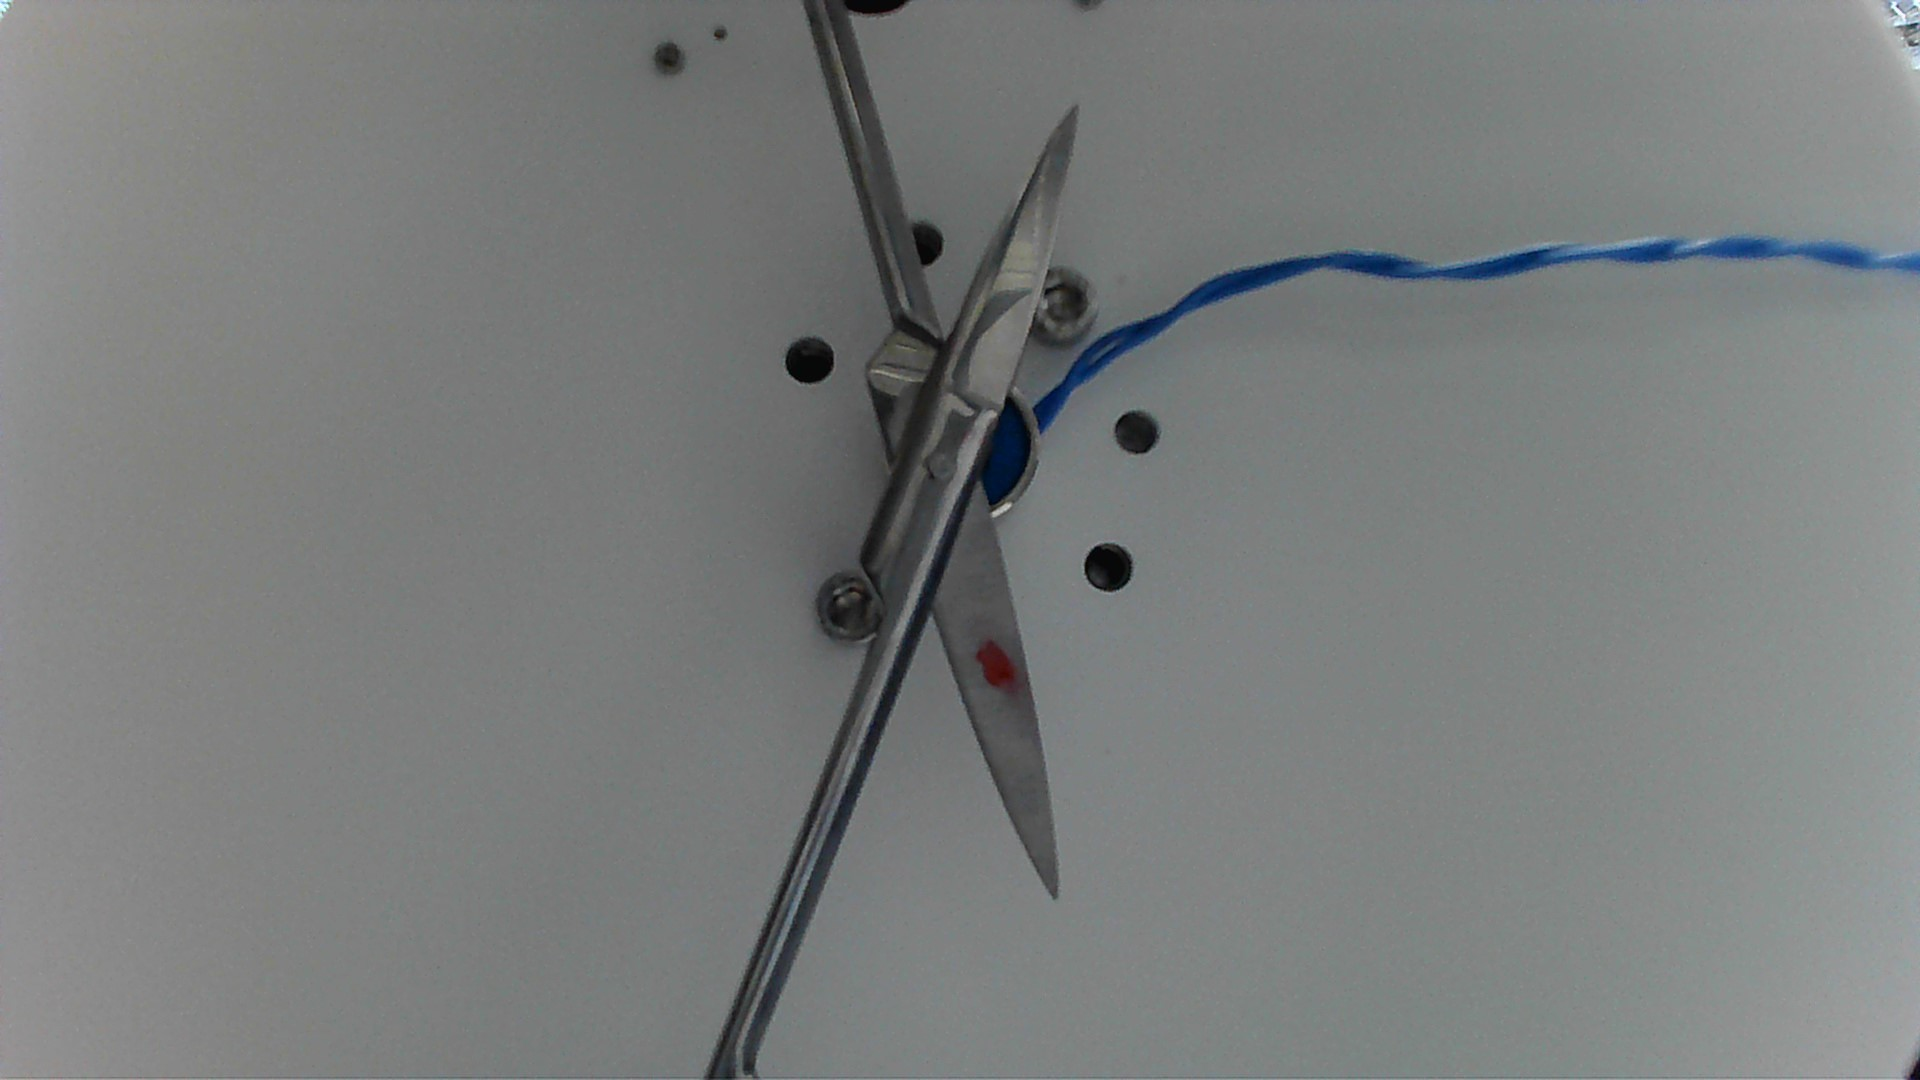Stain: (972, 633, 1029, 703)
